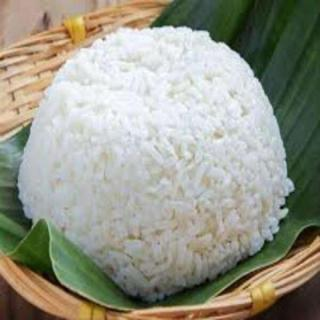Nasi: (17, 25, 296, 302)
